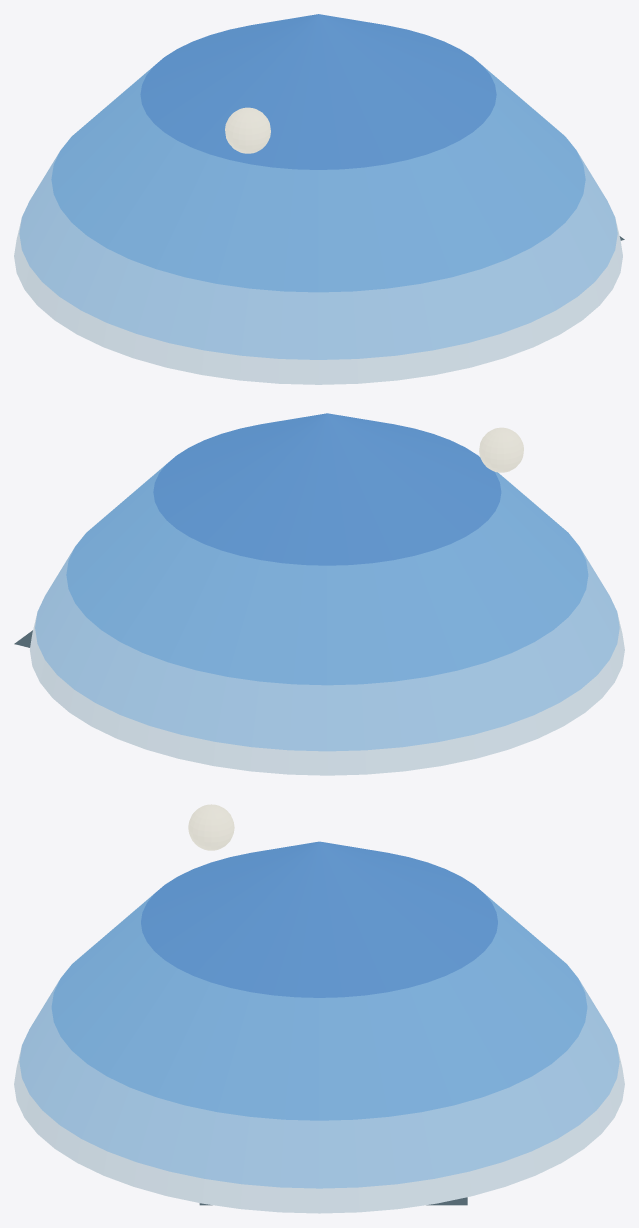
File: charleston-operations-yard-greybox.glb
3 renders of one model, top to bottom at view 1: azimuth 30°, elevation 25°; view 2: azimuth 150°, elevation 25°; view 3: azimuth 270°, elevation 25°, orthographic. The views are drawn at different scales.
Visible parts, largest first — view 1: SKY_DomeMid, SKY_DomeLow, SKY_DomeZenith, SKY_DomeHorizon, SKY_SunHalo; view 2: SKY_DomeMid, SKY_DomeLow, SKY_DomeZenith, SKY_DomeHorizon, SKY_SunHalo; view 3: SKY_DomeMid, SKY_DomeLow, SKY_DomeZenith, SKY_DomeHorizon, SKY_SunHalo.
Part boxes in pixels (x1,y1,x2,y2): SKY_DomeMid: [51, 66, 585, 292]; SKY_DomeLow: [19, 151, 617, 359]; SKY_DomeZenith: [140, 14, 496, 169]; SKY_DomeHorizon: [14, 218, 622, 384]; SKY_SunHalo: [225, 107, 270, 153]; SKY_DomeMid: [66, 465, 588, 685]; SKY_DomeLow: [35, 547, 619, 751]; SKY_DomeZenith: [153, 413, 501, 565]; SKY_DomeHorizon: [30, 613, 624, 775]; SKY_SunHalo: [479, 427, 523, 472]; SKY_DomeMid: [51, 894, 587, 1120]; SKY_DomeLow: [19, 980, 619, 1188]; SKY_DomeZenith: [141, 841, 497, 997]; SKY_DomeHorizon: [14, 1047, 624, 1213]; SKY_SunHalo: [188, 804, 234, 850].
Bounding box in the file's own units: 684 × 300 × 684.
